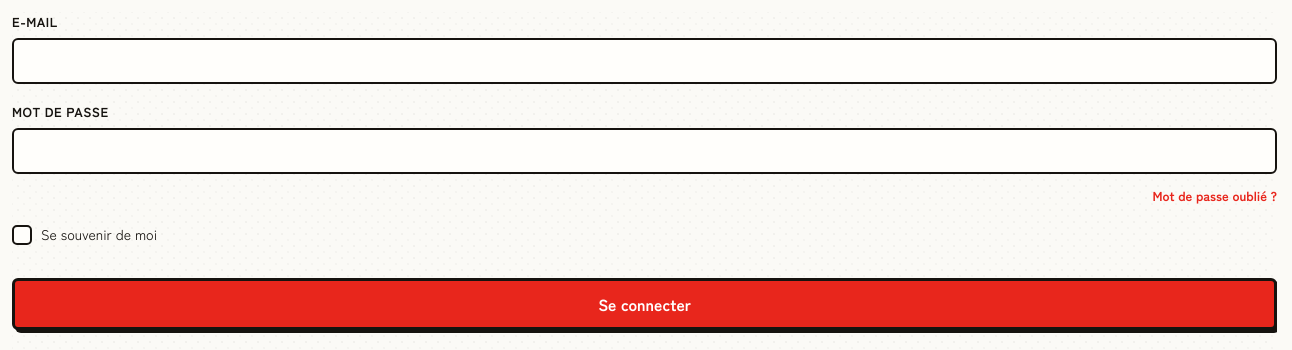
Scenario: LoginForm › disables submit button and shows "Connexion…" while loading
The image size is (1292, 350).
Type "yuki@example.com" into the field labelled "E-mail".
click(644, 61); type("yuki@example.com")  # box [12, 38, 1277, 84]
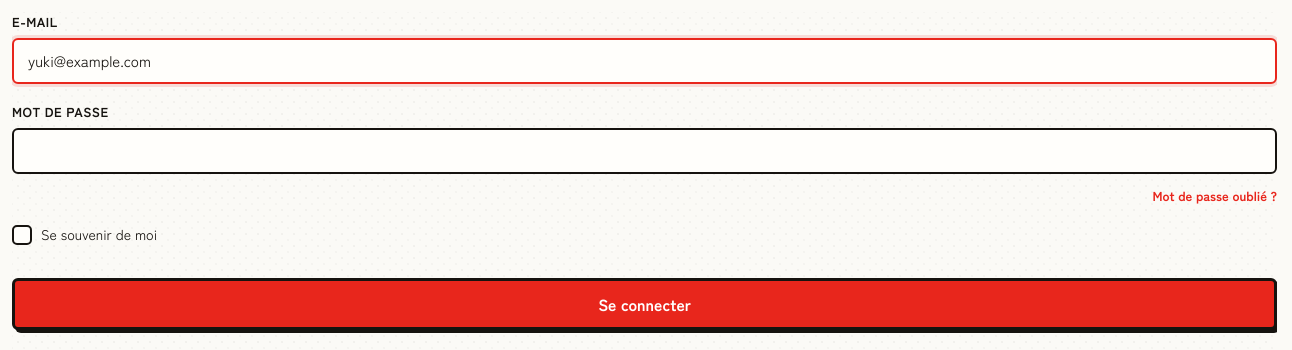
Type "password123" into the password field labelled "Mot de passe".
click(644, 151); type("password123")  # box [12, 128, 1277, 174]
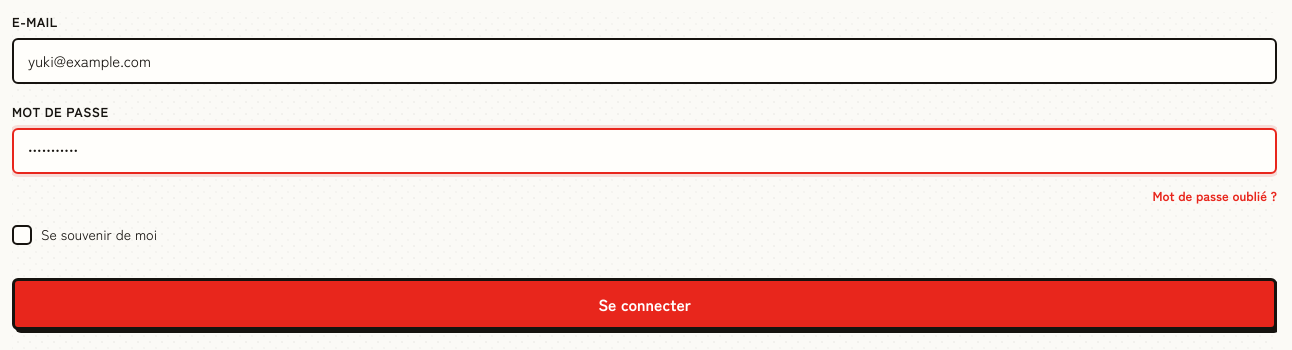
Click the button "Se connecter".
click(644, 304)  # box [12, 278, 1277, 330]
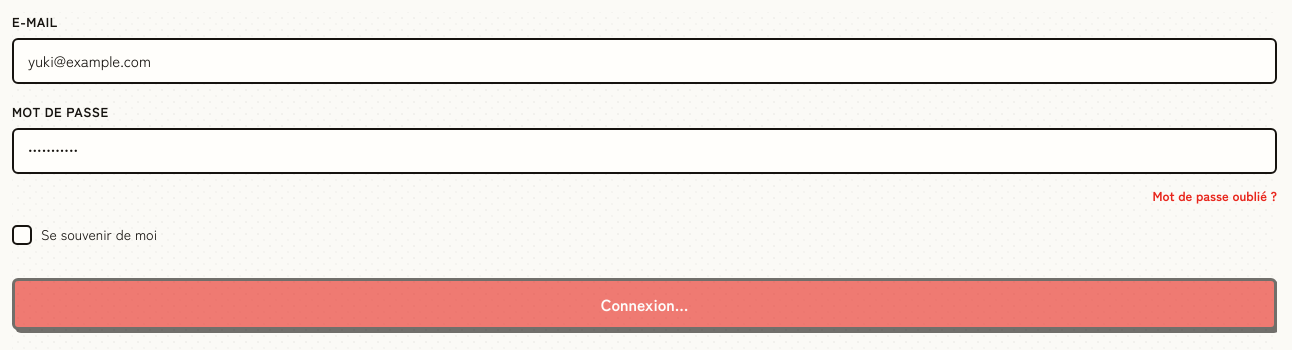
Expected: the button "Connexion…" is disabled, [12, 278, 1277, 330]
